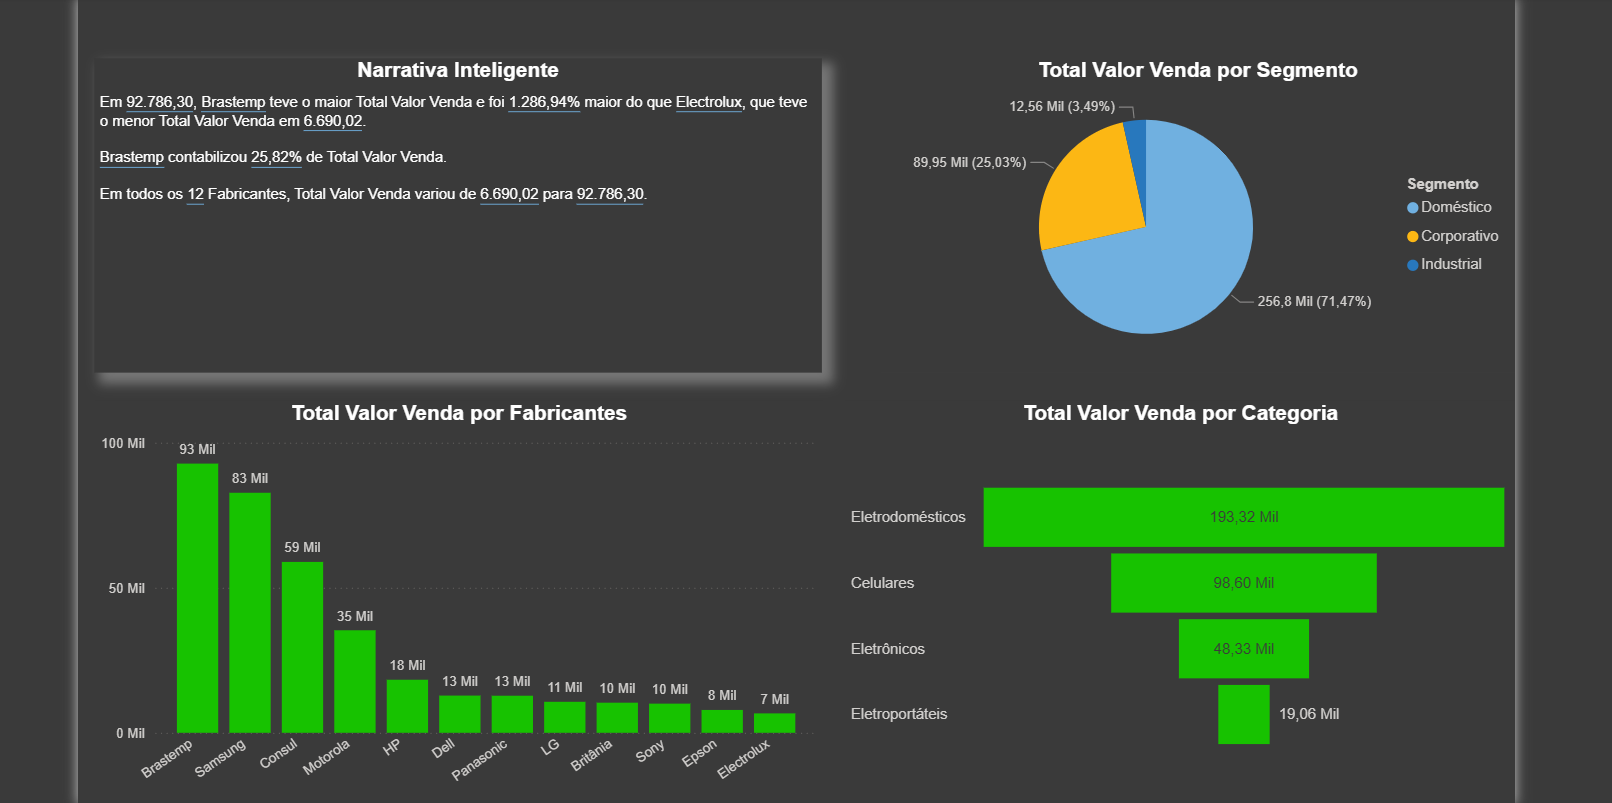

This screenshot's page, from the dashboard's own definition file:
{"tool":"powerbi","page":{"name":"Narrativa Inteligente","canvas":[1280,720],"ordinal":1},"visuals":[{"type":"pieChart","fields":{"Y":["Sum(Vendas.ValorVenda)"],"Category":["Vendas.Segmento"]},"box":[714.9,54.9,565.4,279.9],"z":0},{"type":"clusteredColumnChart","fields":{"Category":["Vendas.Fabricante"],"Y":["Sum(Vendas.ValorVenda)"]},"box":[15.1,359.5,647.7,360.9],"z":1000},{"type":"funnel","fields":{"Category":["Vendas.Categoria"],"Y":["Sum(Vendas.ValorVenda)"]},"box":[683.4,359.5,596.9,360.9],"z":2000},{"type":"textbox","title":"Narrativa Inteligente","box":[15,55,648,280],"z":3000}]}

Visuals, with their boxes on the page's 1280x720 design canvas (x1, y1, x2, y2). These are canvas units, not pixel positions in the 1612x803 screenshot, which may show the page scaled, cropped or inside an application window:
pieChart - Sum(Vendas.ValorVenda) x Vendas.Segmento: <box>715,55,1280,335</box>
clusteredColumnChart - Vendas.Fabricante x Sum(Vendas.ValorVenda): <box>15,360,663,720</box>
funnel - Vendas.Categoria x Sum(Vendas.ValorVenda): <box>683,360,1280,720</box>
"Narrativa Inteligente" textbox: <box>15,55,663,335</box>
